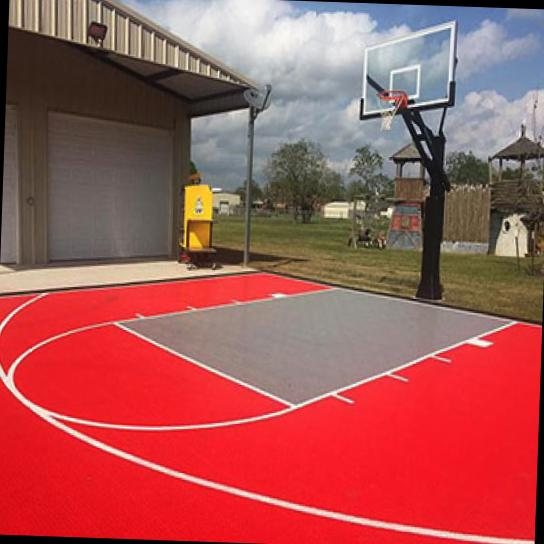basketball-hoop: (373, 88, 406, 134)
